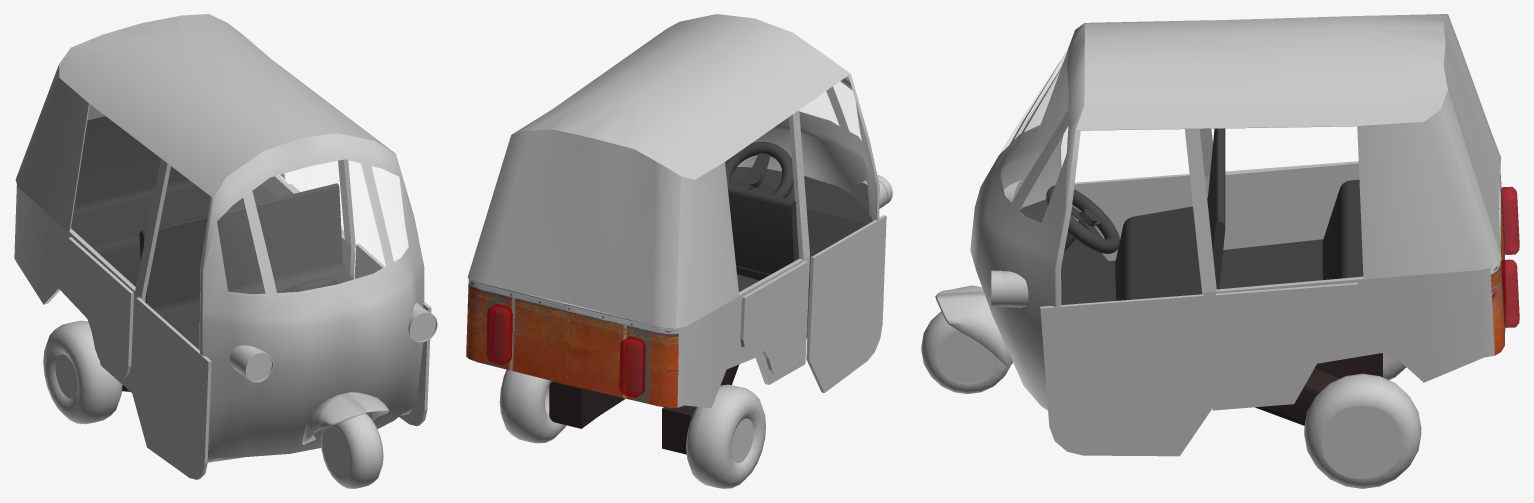
The model's file is bajaj.fbx.
3 renders of one model, left to right at view 1: azimuth 30°, elevation 25°; view 2: azimuth 150°, elevation 25°; view 3: azimuth 270°, elevation 25°, orthographic. The views are drawn at different scales.
Visible parts, largest first — view 1: Cube, Plane.004, Plane.009, Plane.008, Plane.001, Plane.003, Plane.002, Torus.001, Torus, Cylinder, Plane, Plane.013 (+1 smaller); view 2: Plane.004, Plane.003, Plane.001, Cube, Torus.001, Plane.002, Plane.009, Plane.010, Cube.001, Torus.002, Cube.002, Plane.011 (+2 smaller); view 3: Plane.004, Plane.003, Plane.001, Cube, Plane.002, Plane.009, Plane.010, Torus.002, Plane.012, Plane.008, Plane, Cube.001 (+5 smaller).
Part boxes in pixels (x1,y1,x2,y2): Cube: (199, 132, 424, 462); Plane.004: (15, 14, 395, 232); Plane.009: (139, 183, 353, 349); Plane.008: (71, 116, 276, 286); Plane.001: (132, 243, 431, 479); Plane.003: (14, 158, 355, 392); Plane.002: (66, 183, 344, 378); Torus.001: (43, 320, 122, 424); Torus: (320, 413, 383, 488); Cylinder: (230, 302, 437, 382); Plane: (302, 392, 389, 444); Plane.013: (323, 426, 348, 476); Plane.004: (467, 14, 850, 328); Plane.003: (466, 110, 810, 408); Plane.001: (806, 215, 886, 392); Cube: (737, 74, 879, 338); Torus.001: (686, 384, 765, 488); Plane.002: (740, 260, 808, 374); Plane.009: (727, 184, 810, 295); Plane.010: (730, 167, 872, 326); Cube.001: (549, 364, 738, 454); Torus.002: (499, 369, 566, 443); Cube.002: (486, 304, 645, 397); Plane.011: (725, 142, 793, 198); Plane.004: (1076, 14, 1501, 279); Plane.003: (1185, 128, 1505, 410); Plane.001: (1040, 174, 1213, 456); Cube: (970, 23, 1084, 410); Plane.002: (1216, 162, 1361, 401); Plane.009: (1115, 128, 1225, 300); Plane.010: (1020, 199, 1323, 304); Torus.002: (1304, 373, 1421, 488); Plane.012: (1322, 406, 1401, 478); Plane.008: (1322, 179, 1363, 279); Plane: (935, 285, 1012, 367); Cube.001: (1255, 353, 1382, 425).
Size of the model in its own units: 707 by 1074 by 1432.
